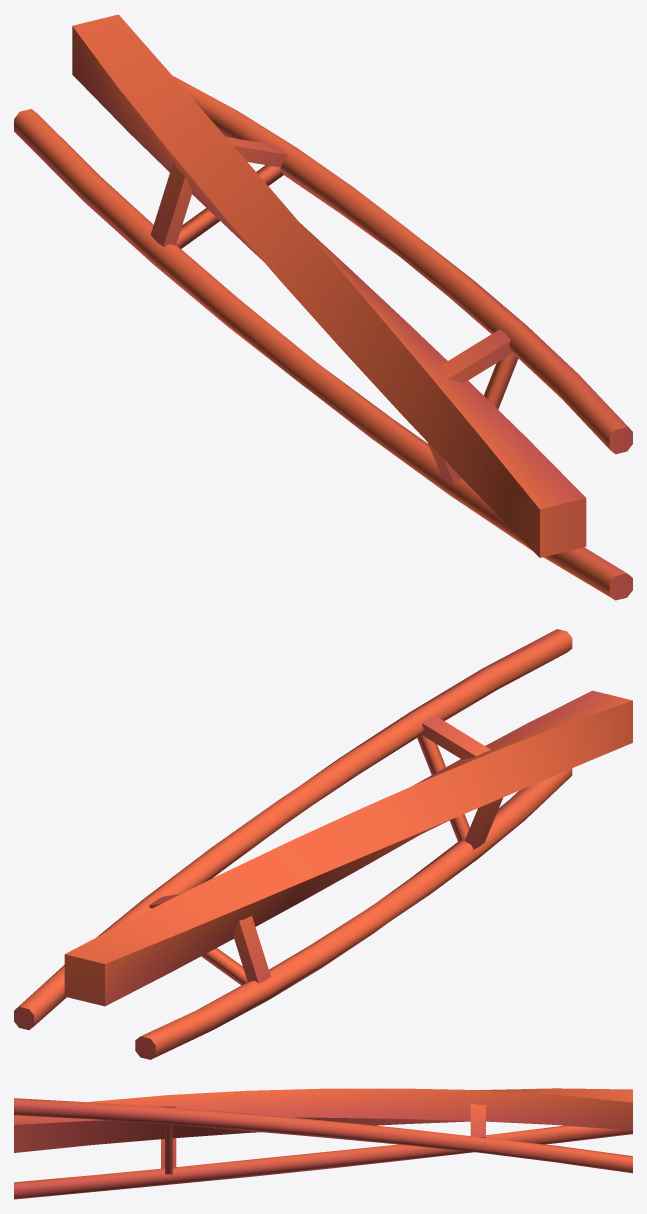
Rendered from kenney-coaster-coaster-hanging-straight-skew-right-side.glb.
The picture shows the model from 3 angles, top to bottom: view 1: azimuth 30°, elevation 25°; view 2: azimuth 150°, elevation 25°; view 3: azimuth 270°, elevation 25°; orthographic projection. The views are drawn at different scales.
Visible parts, largest first — view 1: coaster-hanging-straight-skew-right-side; view 2: coaster-hanging-straight-skew-right-side; view 3: coaster-hanging-straight-skew-right-side.
Boxes of the visible parts, box(x1,y1,x2,y2) form: coaster-hanging-straight-skew-right-side: box(14, 14, 632, 600); coaster-hanging-straight-skew-right-side: box(14, 629, 632, 1059); coaster-hanging-straight-skew-right-side: box(14, 1088, 632, 1199).
Size of the model in its own units: 0.7622 by 0.7622 by 4.
1 material, 1 textured.
